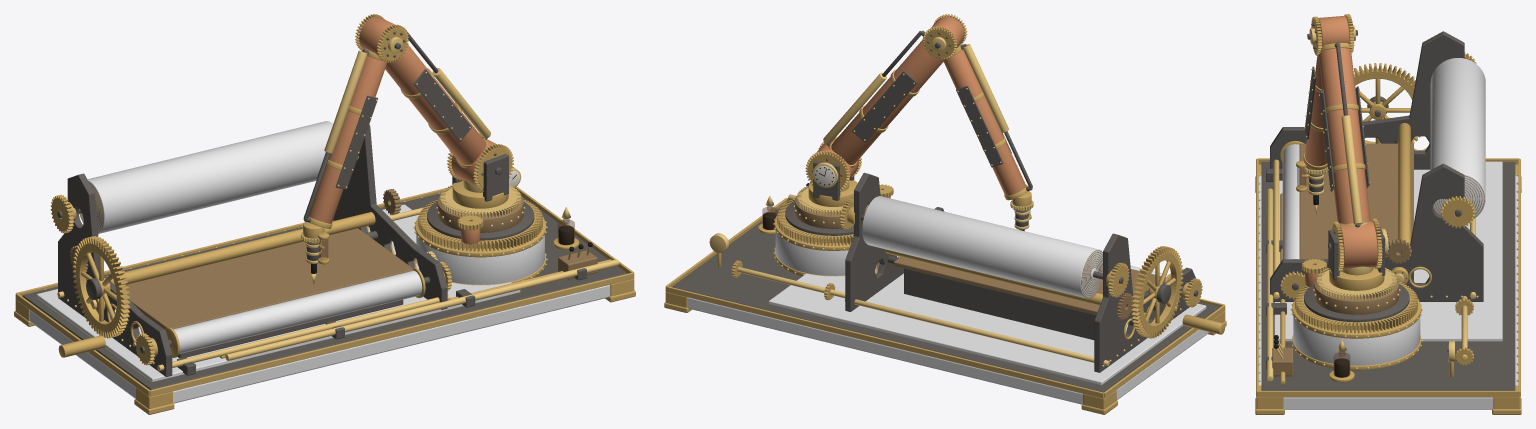
File: machine.glb
The picture shows the model from 3 angles, left to right: view 1: azimuth 30°, elevation 25°; view 2: azimuth 150°, elevation 25°; view 3: azimuth 270°, elevation 25°; orthographic projection. The views are drawn at different scales.
Visible parts, largest first — view 1: Static_DarkIron, Static_Brass, Static_Bronze, Static_Wood_Walnut, RollAssembly, Arm_Fore, FrontAssembly, Arm_Upper, Static_Brass_Polished, Arm_Base, BigWheel_Left, Arm_Pen (+1 smaller); view 2: Static_DarkIron, Static_Wood_Walnut, RollAssembly, Static_Brass, Arm_Fore, Arm_Upper, Static_Bronze, Arm_Base, BigWheel_Left, Static_Brass_Polished, DriveShaft_ArmToFeeder, Arm_Pen (+1 smaller); view 3: Static_DarkIron, Static_Wood_Walnut, Static_Brass, Static_Bronze, RollAssembly, Arm_Upper, Arm_Base, Static_Brass_Polished, Arm_Fore, FrontAssembly, BigWheel_Left, Gear_RollDrive_R (+8 smaller).
Boxes of the visible parts, <box> form: Static_DarkIron: <box>22,124,626,389</box>; Static_Brass: <box>14,186,635,414</box>; Static_Bronze: <box>125,196,597,329</box>; Static_Wood_Walnut: <box>30,204,610,403</box>; RollAssembly: <box>57,121,333,233</box>; Arm_Fore: <box>303,14,408,228</box>; FrontAssembly: <box>140,267,430,357</box>; Arm_Upper: <box>385,30,490,168</box>; Static_Brass_Polished: <box>44,167,619,371</box>; Arm_Base: <box>440,133,521,218</box>; BigWheel_Left: <box>72,236,130,338</box>; Arm_Pen: <box>301,221,329,284</box>; Static_DarkIron: <box>672,172,1218,392</box>; Static_Wood_Walnut: <box>687,231,1212,404</box>; RollAssembly: <box>861,196,1123,298</box>; Static_Brass: <box>664,198,1226,414</box>; Arm_Fore: <box>922,14,1032,200</box>; Arm_Upper: <box>823,30,943,167</box>; Static_Bronze: <box>795,196,1165,314</box>; Arm_Base: <box>797,136,868,215</box>; BigWheel_Left: <box>1131,246,1183,338</box>; Static_Brass_Polished: <box>709,194,1199,366</box>; DriveShaft_ArmToFeeder: <box>737,267,845,298</box>; Arm_Pen: <box>1010,191,1033,230</box>; Static_DarkIron: <box>1261,31,1515,390</box>; Static_Wood_Walnut: <box>1258,161,1518,409</box>; Static_Brass: <box>1255,123,1521,414</box>; Static_Bronze: <box>1272,143,1413,376</box>; RollAssembly: <box>1430,58,1485,218</box>; Arm_Upper: <box>1318,42,1370,227</box>; Arm_Base: <box>1316,218,1396,300</box>; Static_Brass_Polished: <box>1258,159,1518,381</box>; Arm_Fore: <box>1303,14,1357,169</box>; FrontAssembly: <box>1280,141,1303,290</box>; BigWheel_Left: <box>1353,63,1420,143</box>; Gear_RollDrive_R: <box>1441,196,1475,228</box>.
Bounding box in the file's own units: 2.84 × 1.54 × 1.26.
